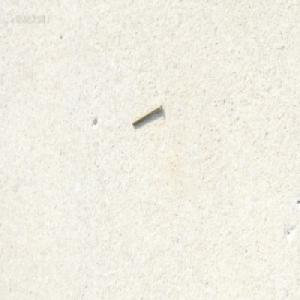Bolt: (131, 102, 162, 127)
